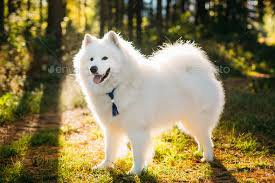dog: (72, 25, 232, 171)
